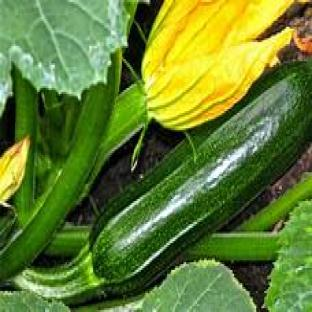Zucchini: (16, 62, 311, 302)
